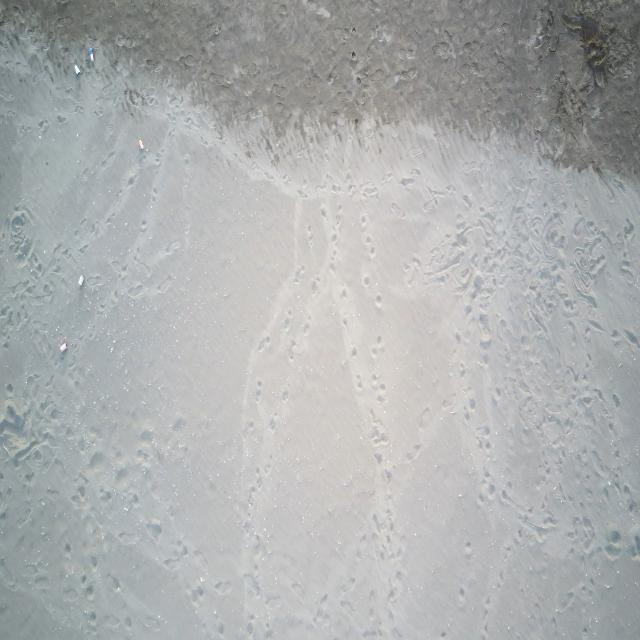Garbage: (87, 47, 94, 62), (59, 339, 67, 352), (77, 275, 83, 286), (138, 138, 143, 150), (75, 64, 80, 75)
